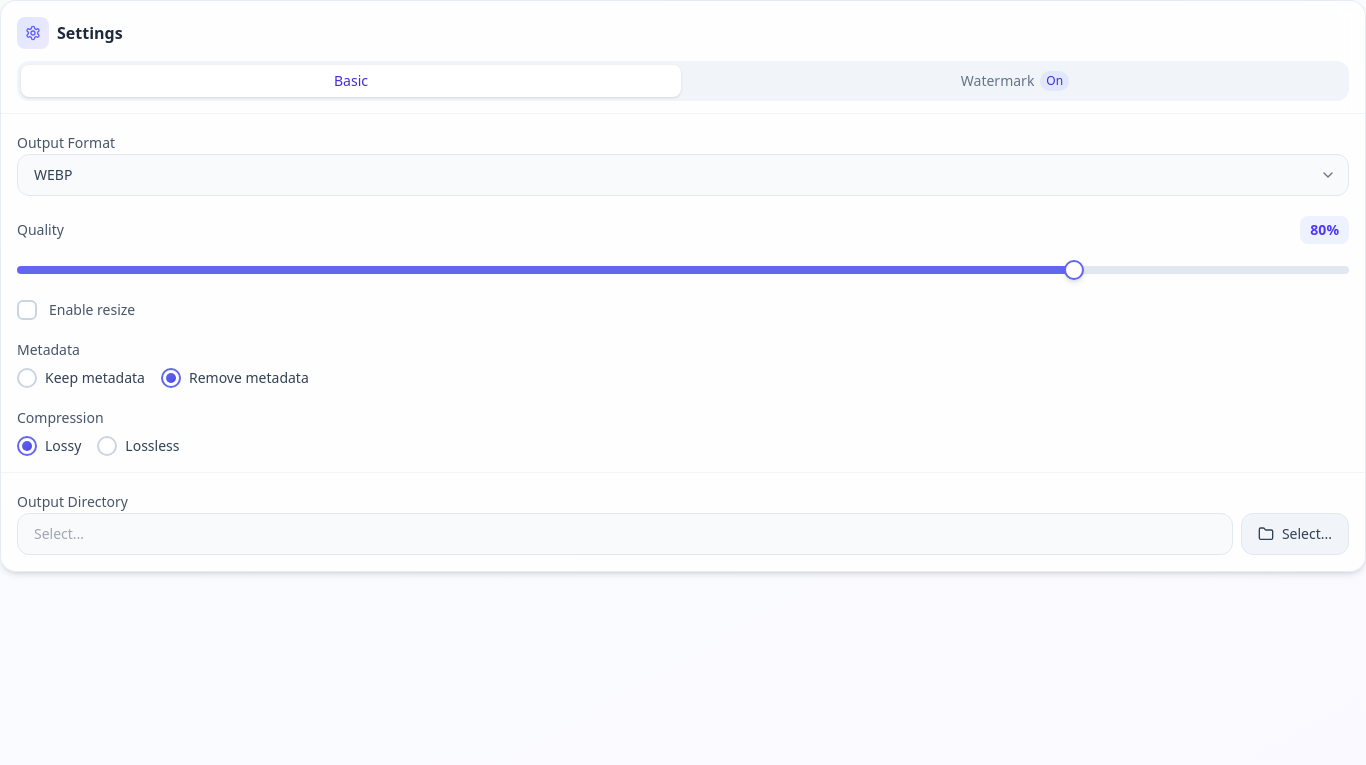
Test case: SettingsPanel › ウォーターマーク › 敷き詰め › Angle は範囲つきのスライダーで、数値として store に入る
The image size is (1366, 765).
Click the tab "Watermark On": (1015, 81) [685,65,1345,97]
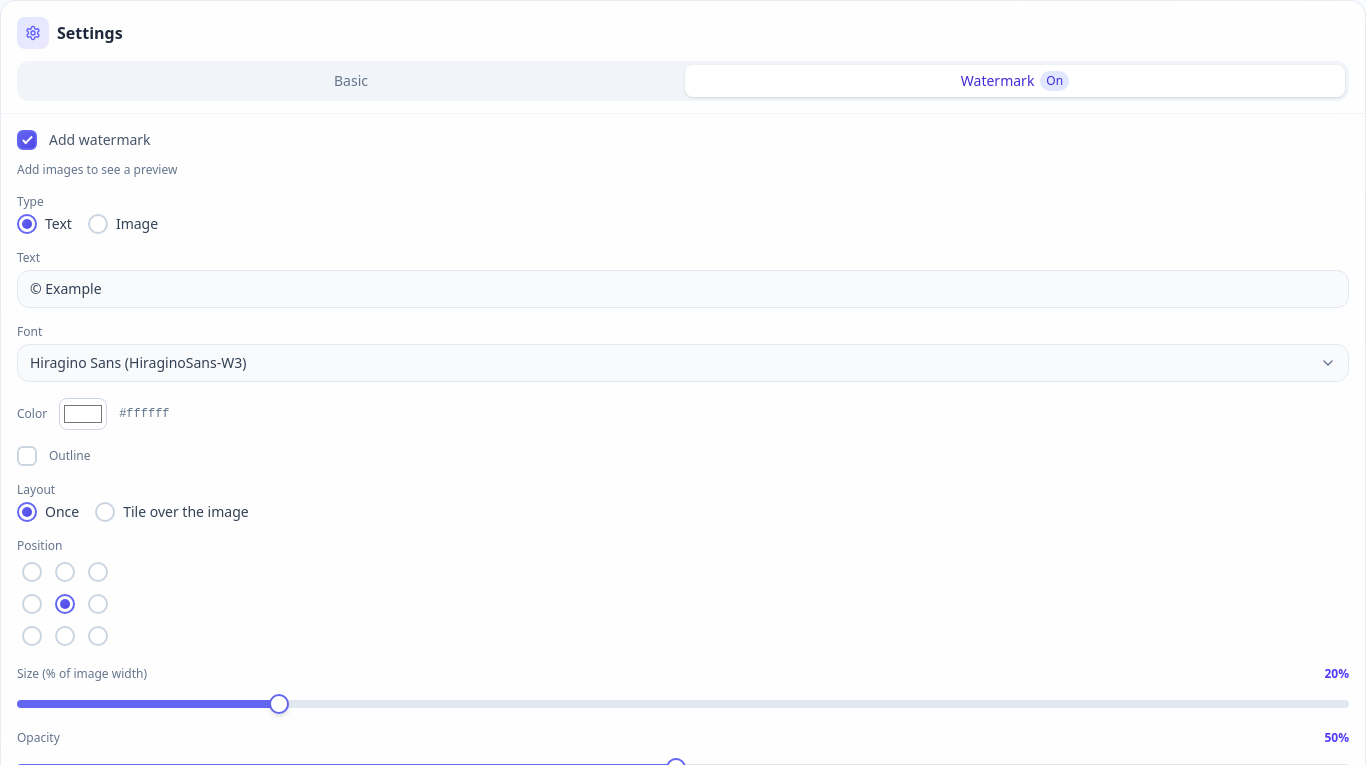
Click the radio button labelled "Tile over the image": (105, 512) [95,502,115,522]
(page scrolled)
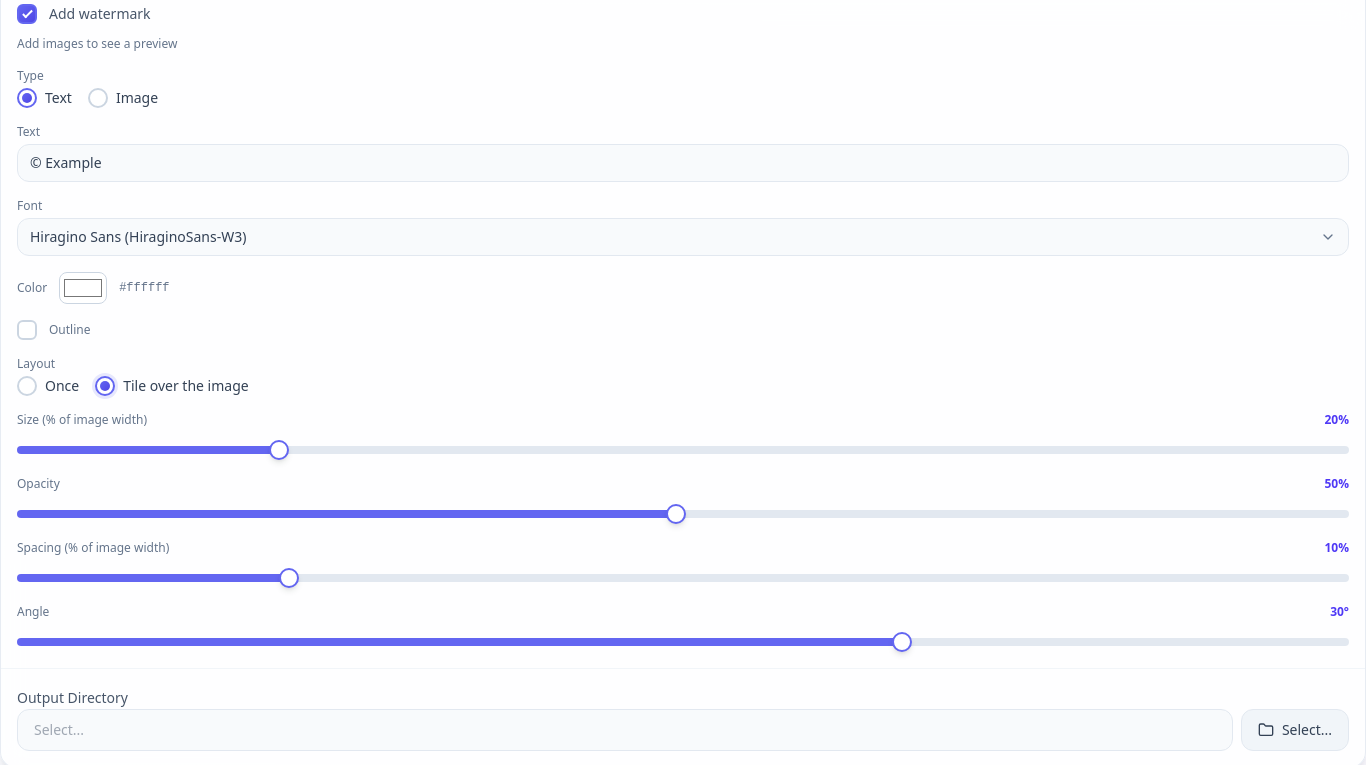
Set the slider labelled "Angle" to "-45": (354, 642) [17,638,1349,646]
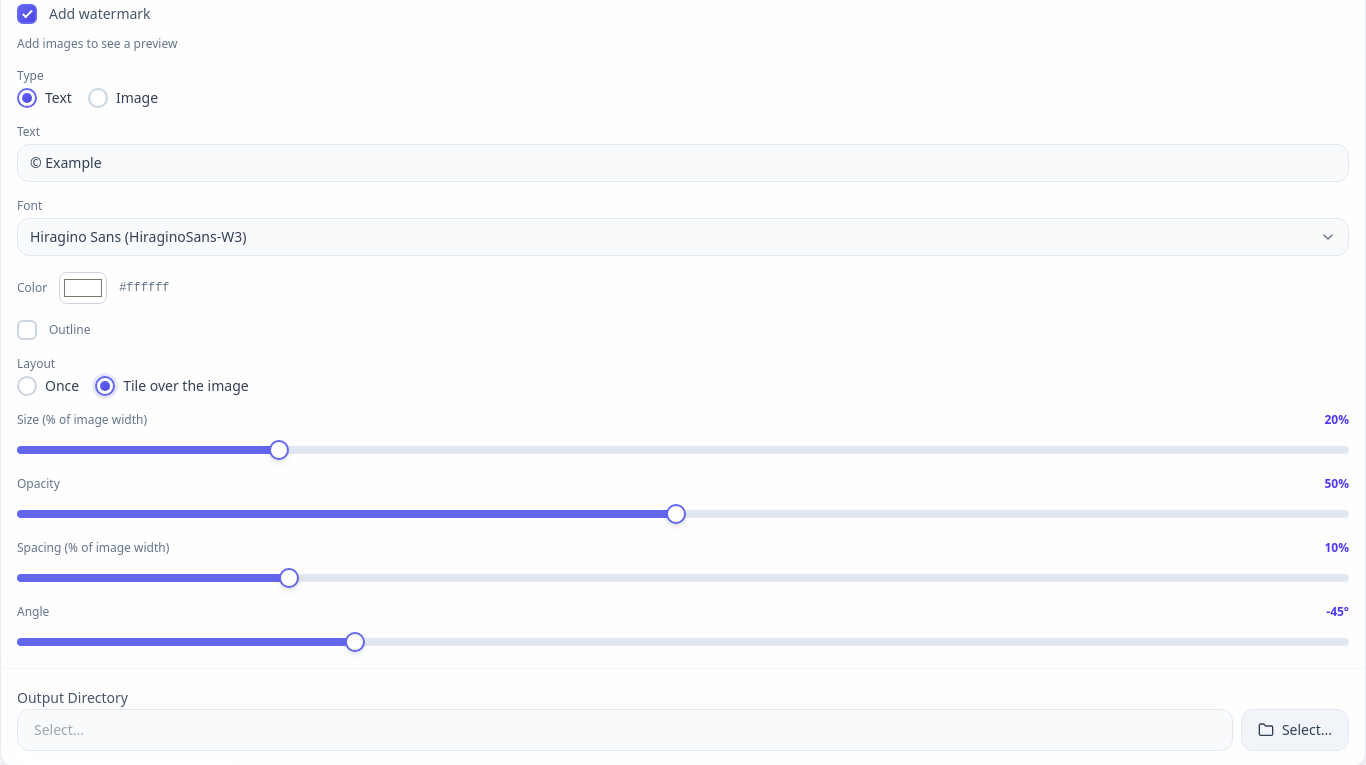
Now the text "-45°" is shown, box [1326,604,1349,620]
